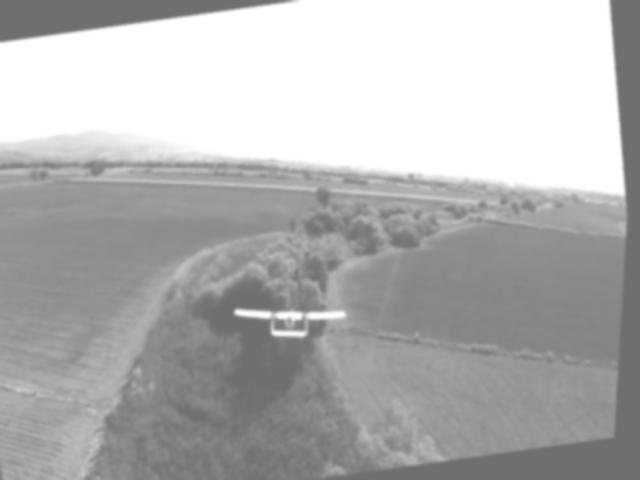hedef: (229, 284, 355, 356)
